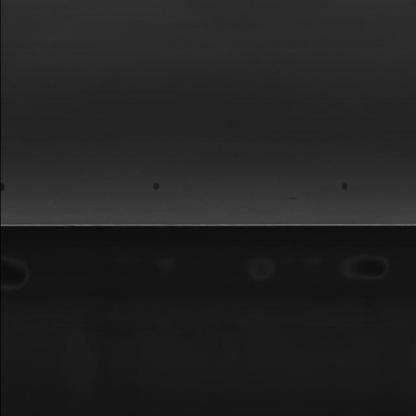oil_spot: (322, 175, 360, 194), (139, 182, 176, 198)
